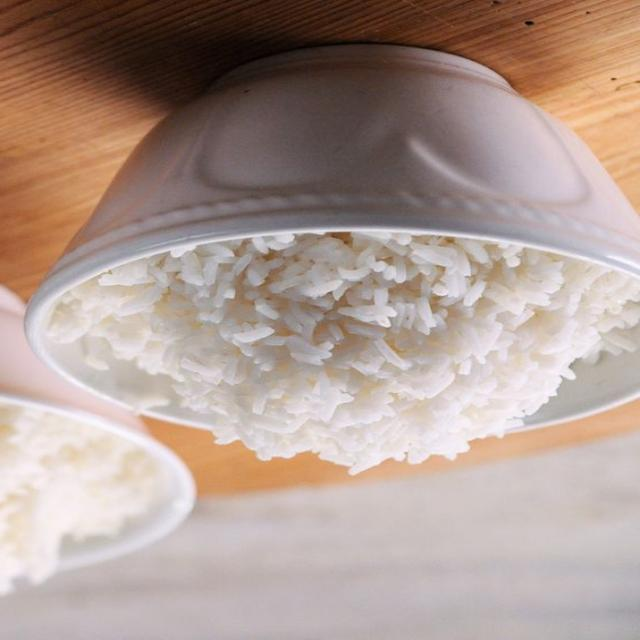nasi_putih: (51, 205, 626, 472)
